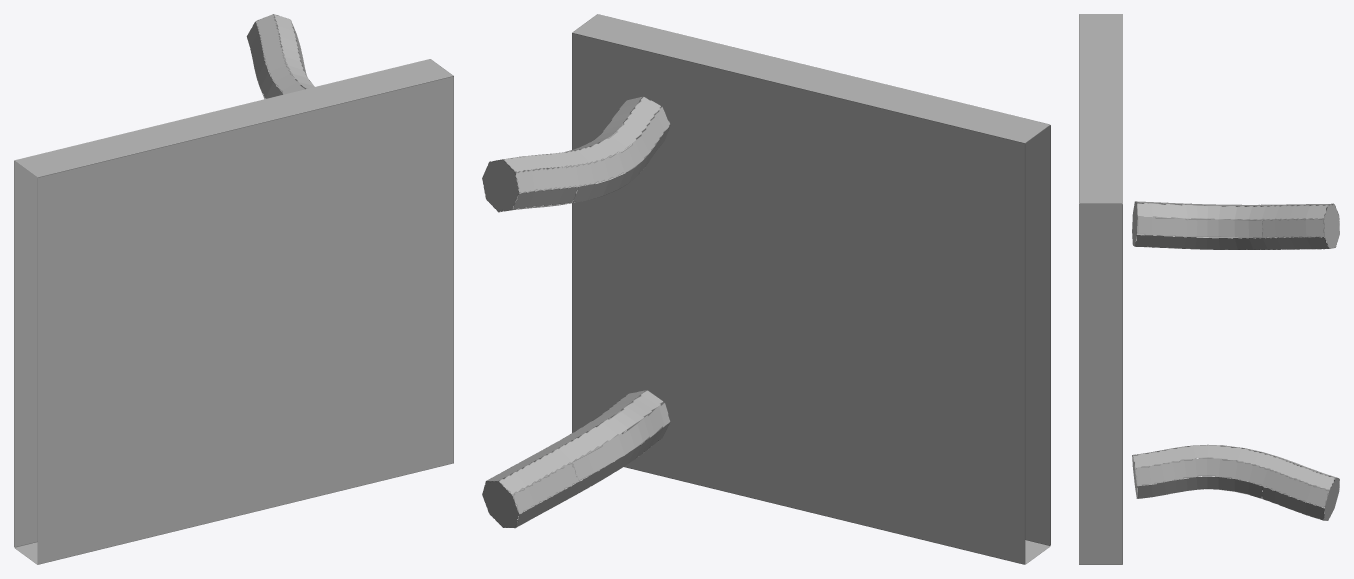
File: pz_table_tables_low_01_long_fancy_1_0.obj
3 renders of one model, left to right at view 1: azimuth 30°, elevation 25°; view 2: azimuth 150°, elevation 25°; view 3: azimuth 270°, elevation 25°, orthographic. The views are drawn at different scales.
Size of the model in its own units: 0.5625 by 0.5 by 0.3272.
Materials: 1 (1 with a texture image).
